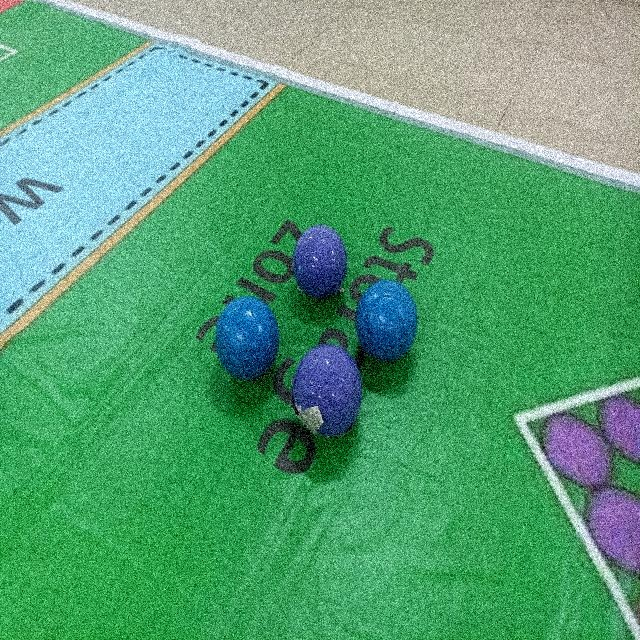blue_ball: (354, 278, 419, 367), (213, 293, 280, 379)
purple_ball: (290, 341, 365, 435), (291, 221, 349, 302)
